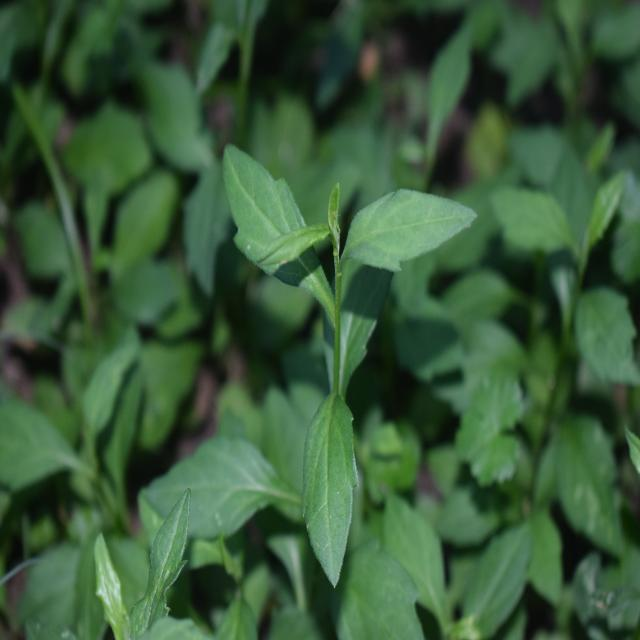Indian aster: (160, 123, 426, 564)
